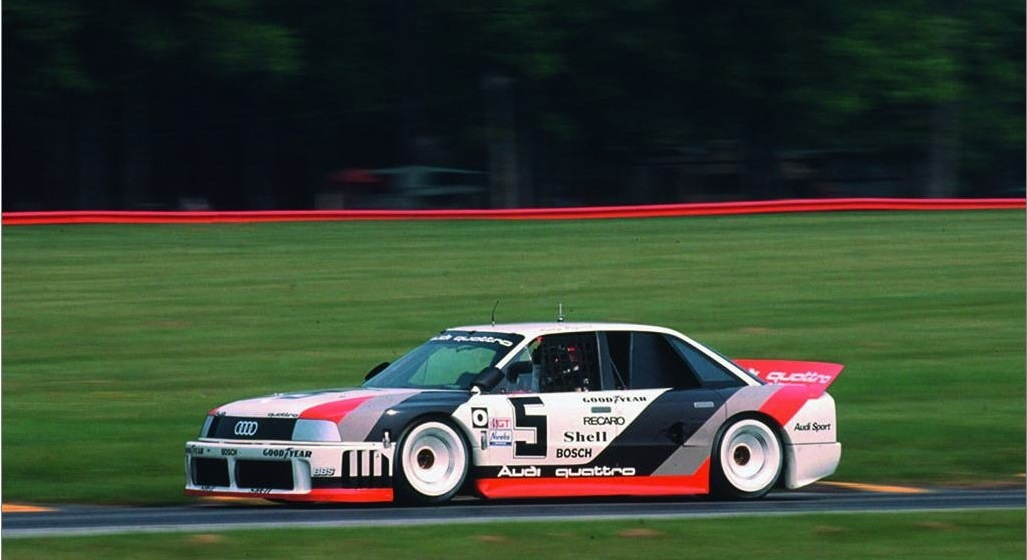racing car: (184, 293, 872, 520)
